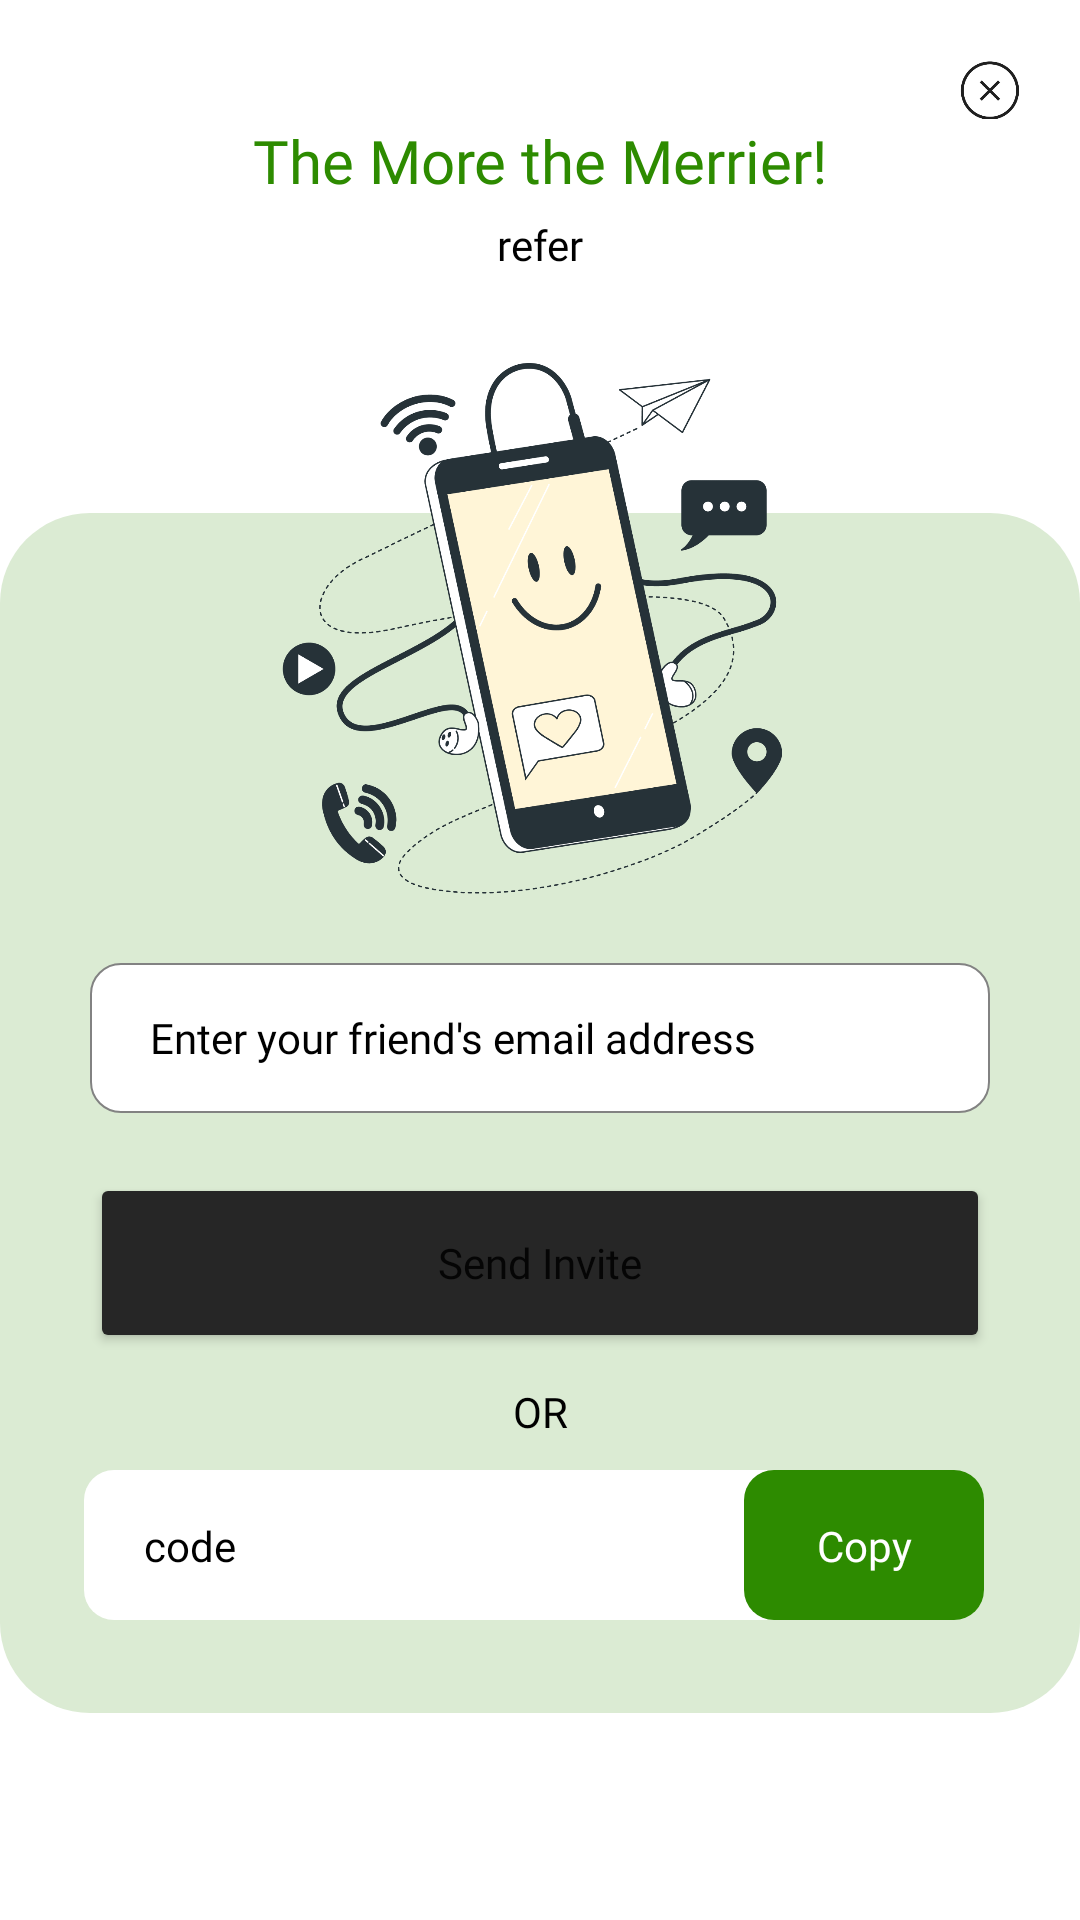

Named icons in this screenshot (1080×1920) and their bounding boxes, (x1, y1, x2, y2):
cross: (961, 61, 1019, 119)
